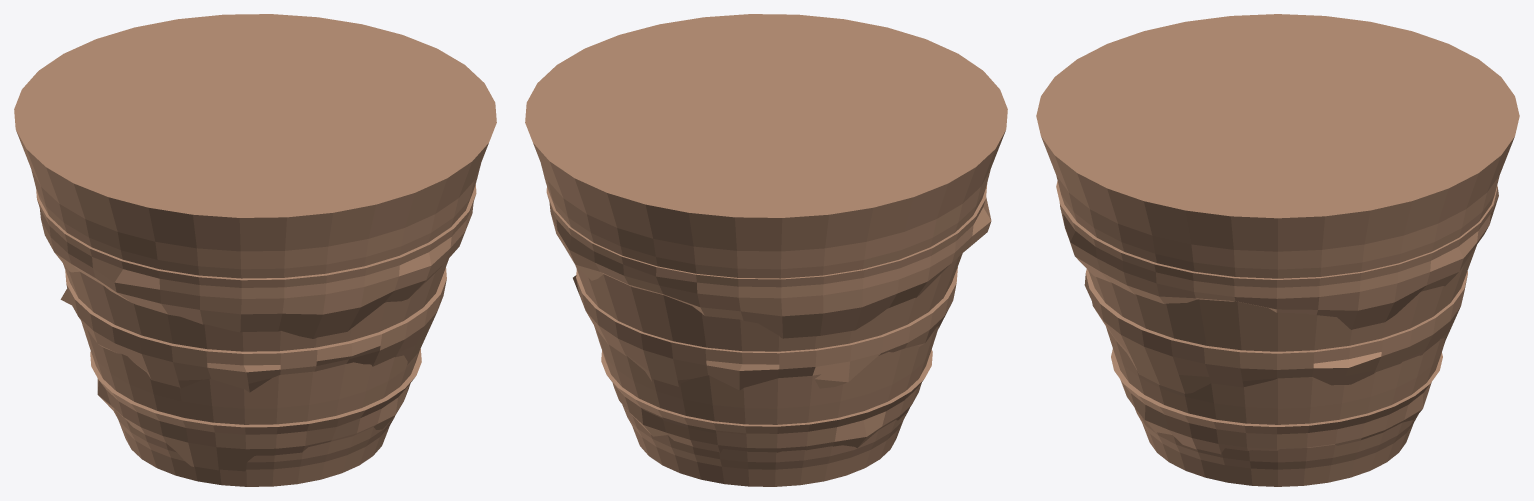
File: PostreSweetHelp_Base_chocolate.fbx
3 views of the same model, side by side, from view 1: azimuth 30°, elevation 25°; view 2: azimuth 150°, elevation 25°; view 3: azimuth 270°, elevation 25° (orthographic).
Parts seen in each view (by area): view 1: CremaBasw, crema_Suelta; view 2: CremaBasw, crema_Suelta; view 3: CremaBasw, crema_Suelta.
Boxes of the visible parts, x1,y1,x2,y2 form: CremaBasw: (14,14,496,486); crema_Suelta: (36,184,476,471); CremaBasw: (525,14,1007,486); crema_Suelta: (546,183,991,452); CremaBasw: (1036,14,1519,486); crema_Suelta: (1056,181,1498,454).
Size of the model in its own units: 264 by 190 by 264.
